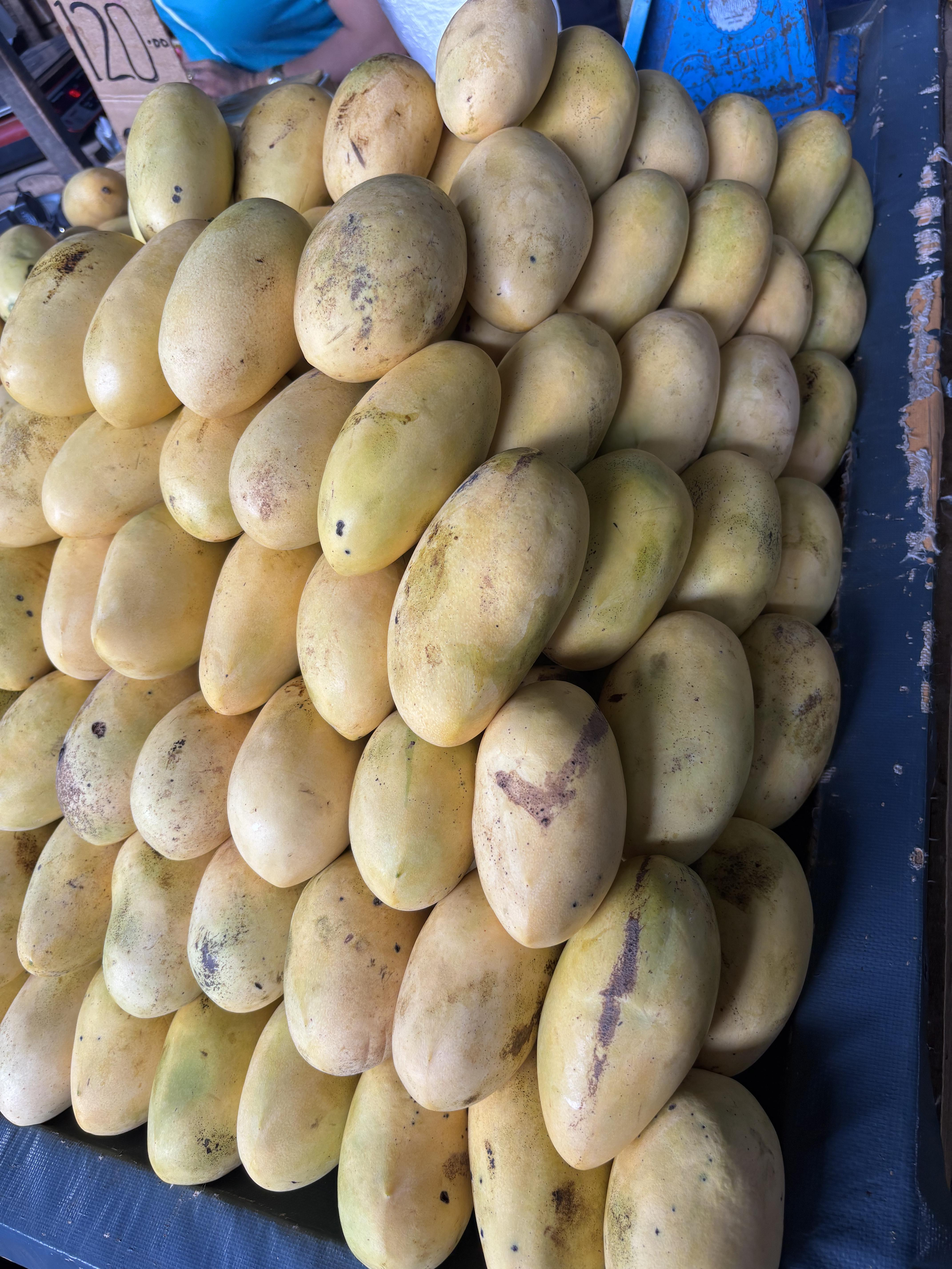mango: (388, 448, 589, 747), (294, 174, 466, 382)
occluded: (537, 855, 720, 1170), (318, 341, 500, 575), (472, 681, 626, 948), (392, 872, 562, 1112), (599, 612, 754, 864), (604, 1069, 784, 1269), (544, 448, 693, 670), (159, 198, 310, 417), (284, 850, 428, 1076), (468, 1048, 610, 1269), (694, 818, 813, 1076), (450, 127, 592, 333), (227, 676, 363, 887), (338, 1059, 473, 1269), (56, 662, 198, 846), (229, 368, 373, 549), (349, 710, 478, 911), (0, 230, 139, 415), (83, 220, 205, 428), (147, 995, 276, 1185), (91, 503, 229, 679), (237, 1000, 358, 1190), (736, 614, 840, 829), (560, 170, 688, 342), (662, 450, 781, 635), (200, 534, 320, 715), (131, 691, 259, 860), (488, 314, 622, 471), (160, 378, 289, 541), (522, 25, 639, 202), (188, 838, 304, 1013), (297, 554, 406, 740), (598, 309, 720, 473), (103, 831, 207, 1019), (662, 179, 773, 345), (323, 54, 443, 201), (435, 0, 557, 142), (70, 969, 174, 1135), (125, 83, 234, 241), (42, 413, 177, 537), (17, 820, 119, 976), (0, 963, 98, 1125), (0, 670, 93, 830), (703, 335, 800, 479), (0, 403, 88, 547), (236, 82, 331, 212), (767, 110, 852, 253), (765, 476, 842, 624), (621, 70, 708, 196), (41, 536, 112, 680), (782, 351, 856, 486), (0, 821, 58, 985), (737, 234, 813, 358), (0, 542, 57, 691), (701, 94, 777, 196), (801, 250, 867, 360), (808, 158, 874, 266), (0, 225, 54, 321), (453, 303, 521, 365), (62, 167, 127, 227), (428, 125, 475, 194), (0, 966, 30, 1022), (301, 204, 332, 229), (128, 203, 146, 244), (99, 215, 132, 234), (450, 402, 450, 403)
